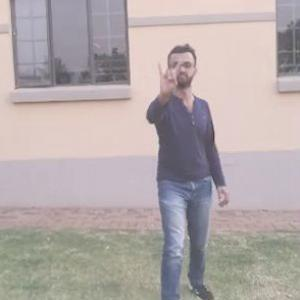takeoff-hand: (150, 48, 184, 98)
